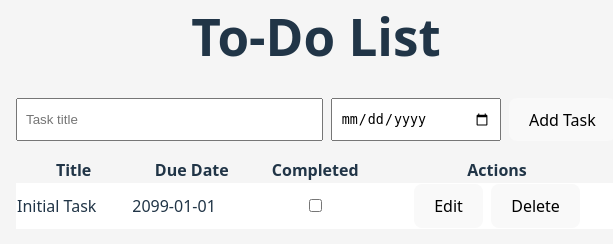
Scenario: user can delete todo
Click the button with test id "delete-btn-0" at (536, 206), box top-left (491, 184), bottom-right (580, 228)
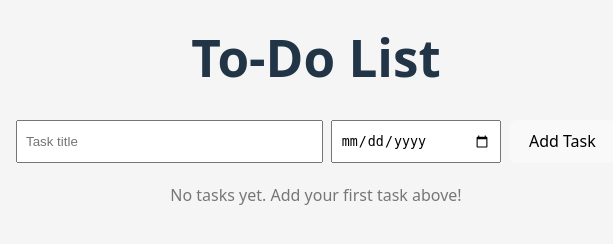
Result: the row with test id "todo-row-0" is gone
